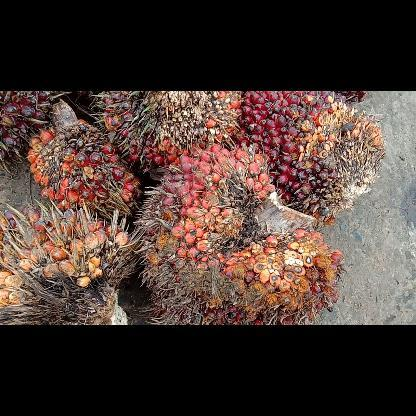TBS masak: (141, 146, 344, 324), (241, 92, 385, 218), (0, 207, 138, 322), (26, 102, 144, 214), (88, 93, 240, 170)
